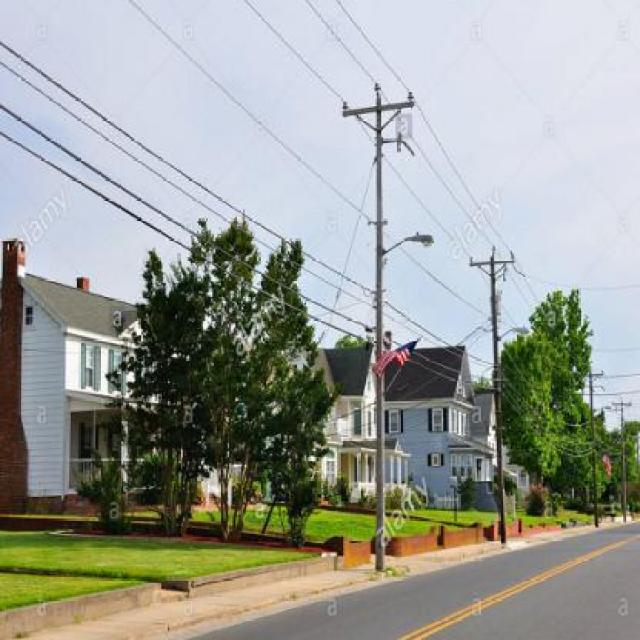pole: (332, 72, 421, 578), (463, 241, 525, 544)
